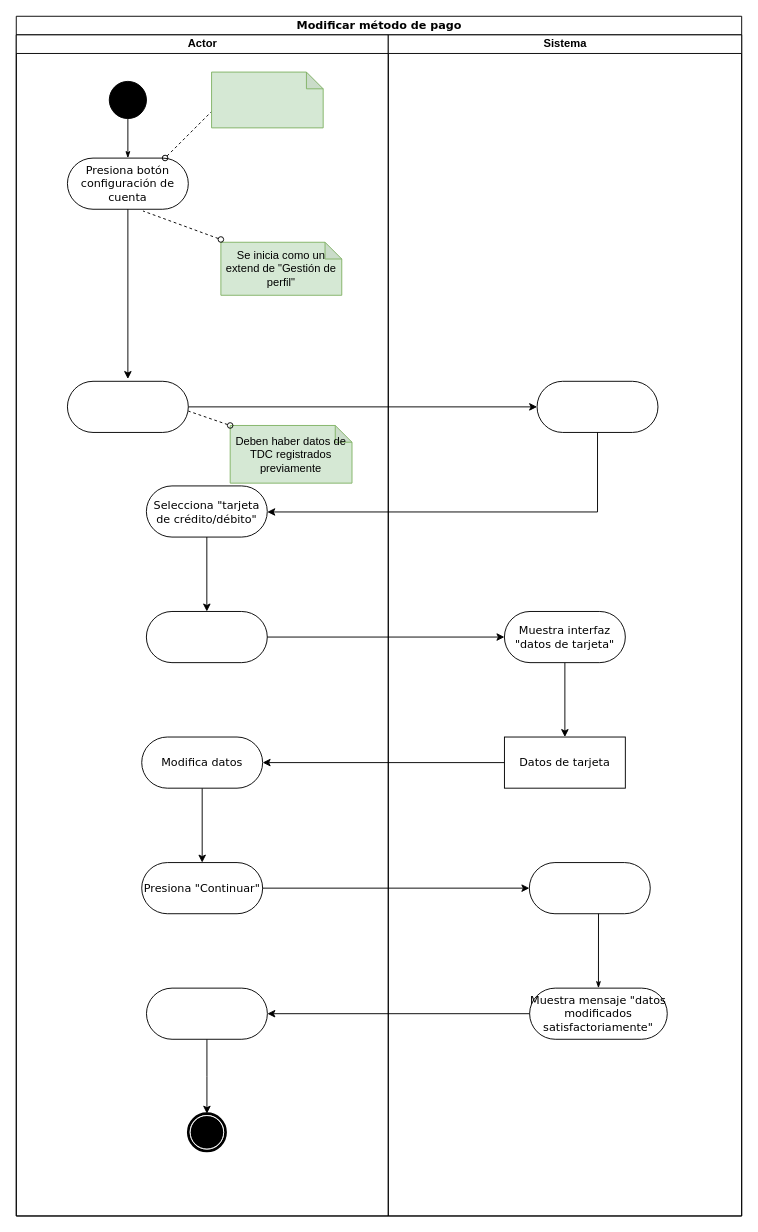
Image size: 758x1232. Some labels were removed from this diagram. The shapes that lost their labels are listed below. From the top down, each one's centre as x and y in pixels, then its label:
point 267,99: El usuario debe estar registrado en el sistema
point 127,406: Presiona botón "modificar método de pago"
point 597,406: Muestra interfaz "lista de métodos de pago"
point 206,637: Selecciona la opción "editar"
point 589,888: Actualiza base de datos
point 206,1013: Presiona "OK"
